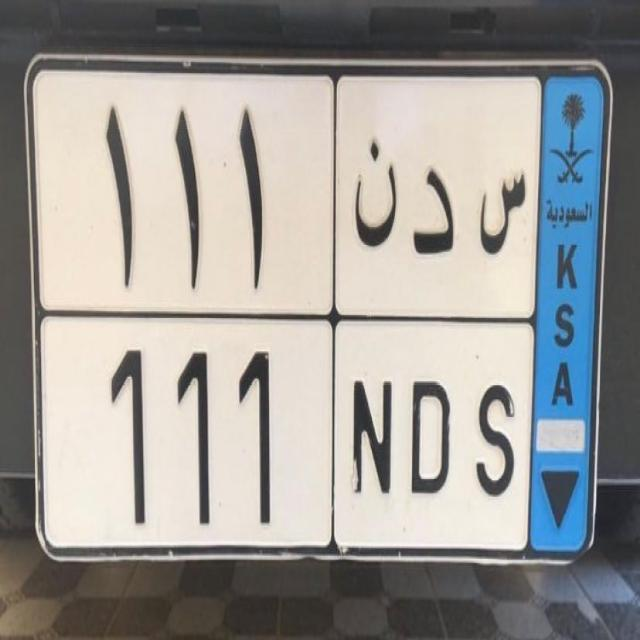license_plate: (97, 338, 519, 529)
